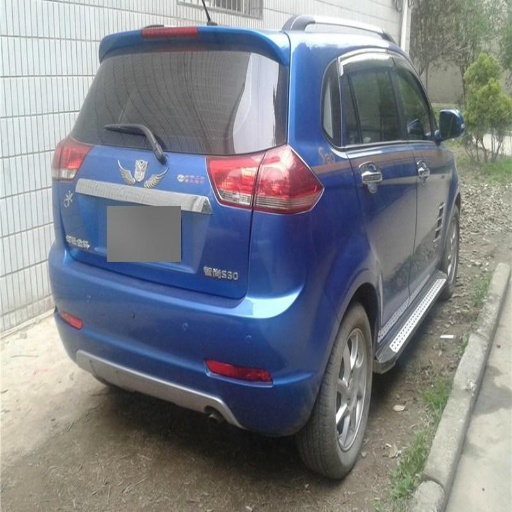back_bumper: (52, 211, 348, 435)
back_right_door: (336, 49, 416, 329)
tailgate: (176, 254, 244, 297)
trunk: (65, 146, 269, 292)
